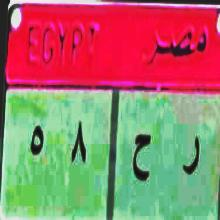5: (27, 121, 47, 161)
7aa: (130, 121, 153, 192)
8: (70, 112, 88, 170)
raa: (182, 127, 201, 179)
